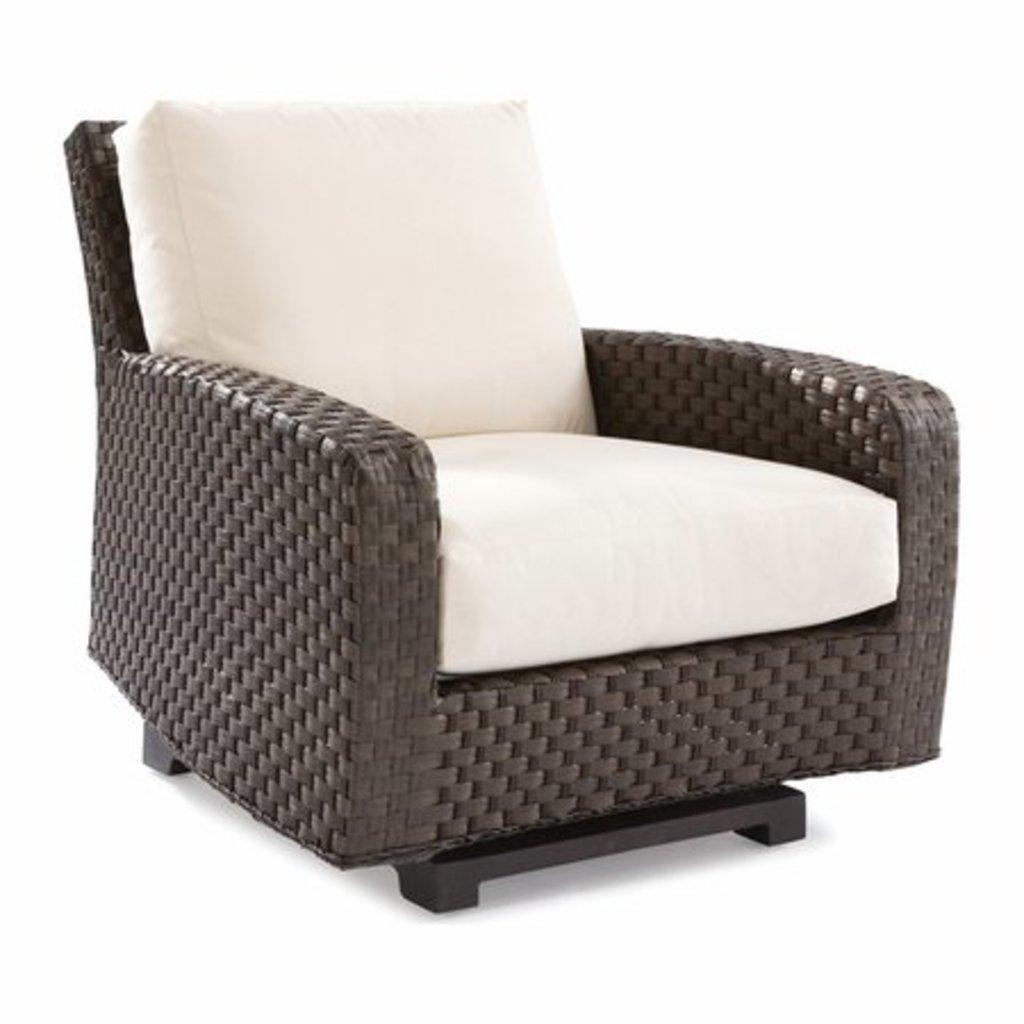Chair: (77, 166, 974, 915)
